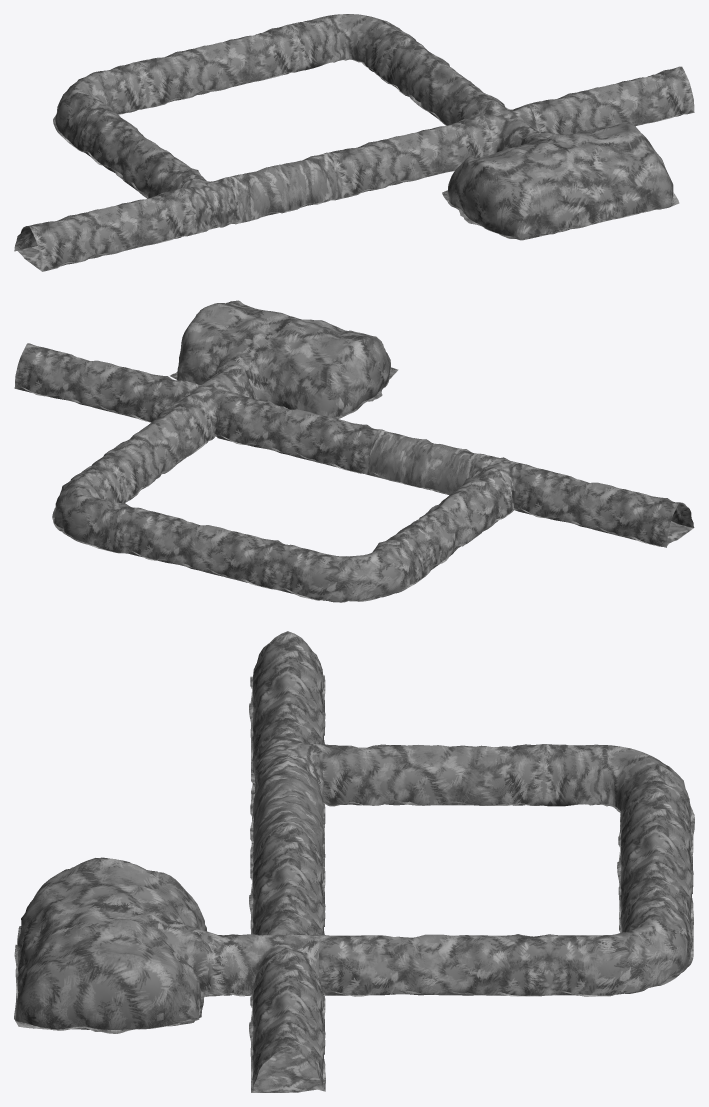
File: modee-tunnel-texture.fbx
The picture shows the model from 3 angles, top to bottom: view 1: azimuth 30°, elevation 25°; view 2: azimuth 150°, elevation 25°; view 3: azimuth 270°, elevation 25°; orthographic projection. The views are drawn at different scales.
Visible parts, largest first — view 1: solraccord 1.002; view 2: solraccord 1.002; view 3: solraccord 1.002.
Boxes of the visible parts, x1,y1,x2,y2 form: solraccord 1.002: (14,14,694,271); solraccord 1.002: (14,300,694,602); solraccord 1.002: (14,631,694,1092).
Bounding box in the file's own units: 9382 × 774 × 6473.
Materials: 23 (22 with a texture image).
